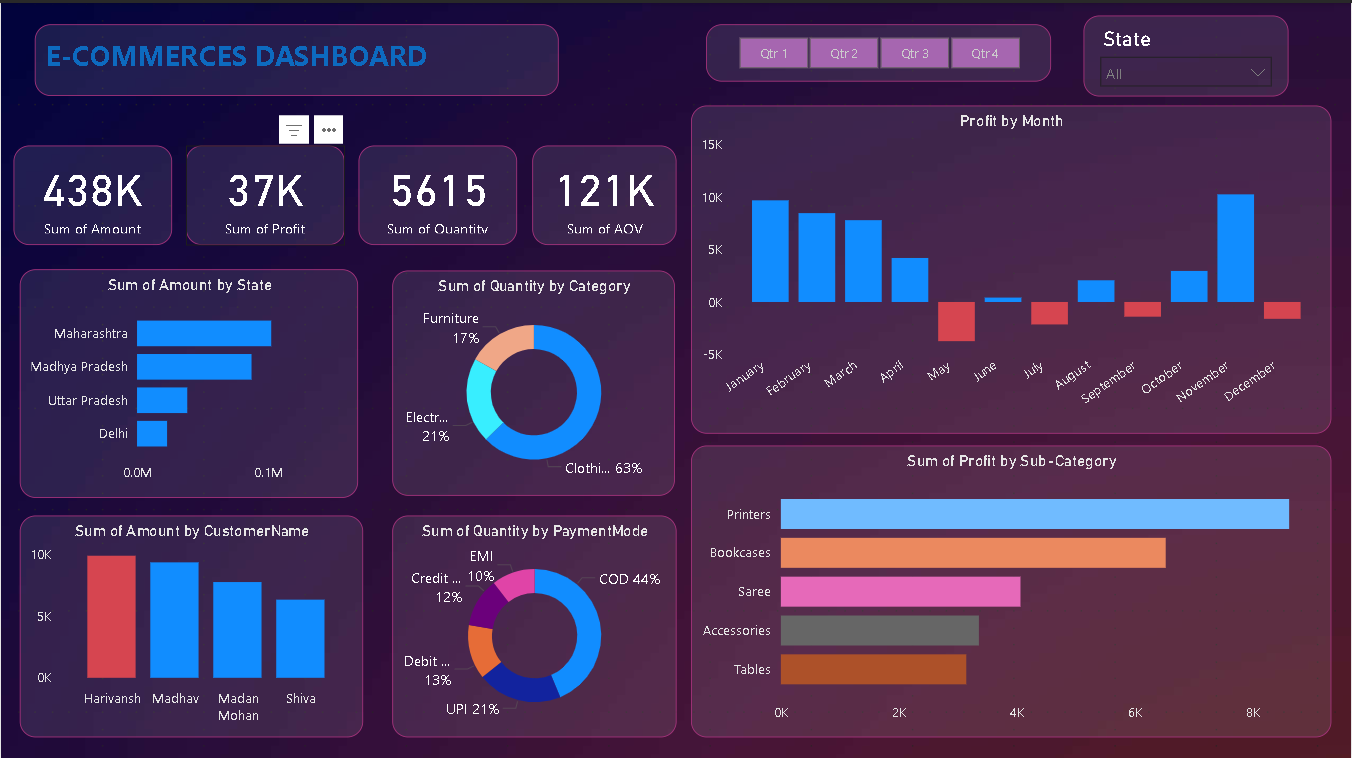

What the dashboard file says about the page in this screenshot:
{"tool":"powerbi","page":{"name":"Page 1","canvas":[1280,720],"ordinal":0},"visuals":[{"type":"textbox","box":[32.4,20.6,496.5,67.8],"z":0},{"type":"columnChart","title":"Profit by Month","fields":{"Y":["Sum(Details.Profit)"],"Category":["Orders.Order Date.Variation.Date Hierarchy.Month"]},"box":[654.1,97.2,607,310.9],"z":1000},{"type":"barChart","fields":{"Category":["Details.Sub-Category"],"Y":["Sum(Details.Profit)"]},"box":[654.1,419.9,607,277],"z":2000},{"type":"pieChart","fields":{"Category":["Details.Category"],"Y":["Sum(Details.Quantity)"]},"box":[371.3,253.4,268.1,213.6],"z":3000},{"type":"donutChart","fields":{"Y":["Sum(Details.Quantity)"],"Category":["Details.PaymentMode"]},"box":[371.3,486.2,269.6,210.7],"z":4000},{"type":"card","fields":{"Values":["Sum(Details.Amount)"]},"box":[11.8,135.5,150.3,94.3],"z":5000},{"type":"card","fields":{"Values":["Sum(Details.Profit)"]},"box":[175.3,135.5,150.3,94.3],"z":6000},{"type":"card","fields":{"Values":["Sum(Details.Quantity)"]},"box":[338.9,135.5,150.3,94.3],"z":7000},{"type":"card","fields":{"Values":["Sum(Details.AOV)"]},"box":[503.9,135.5,137,94.3],"z":8000},{"type":"barChart","fields":{"Category":["Orders.State"],"Y":["Sum(Details.Amount)"]},"box":[17.7,251.9,321.2,216.6],"z":9000},{"type":"columnChart","fields":{"Category":["Orders.CustomerName"],"Y":["Sum(Details.Amount)"]},"box":[17.7,486.2,325.6,210.7],"z":10000},{"type":"slicer","fields":{"Values":["Orders.Order Date.Variation.Date Hierarchy.Quarter"]},"box":[668.9,20.6,327.1,54.5],"z":11000},{"type":"slicer","fields":{"Values":["Orders.State"]},"box":[1026.9,11.8,194.5,76.6],"z":12000}]}

Visuals, with their boxes in screenshot pixels (x1, y1, x2, y2), scaled from the page's 1280x720 canvas onto the 1352x758 screenshot:
textbox: bbox=(34, 22, 559, 93)
"Profit by Month" columnChart: bbox=(691, 102, 1332, 430)
barChart - Details.Sub-Category x Sum(Details.Profit): bbox=(691, 442, 1332, 734)
pieChart - Details.Category x Sum(Details.Quantity): bbox=(392, 267, 675, 492)
donutChart - Sum(Details.Quantity) x Details.PaymentMode: bbox=(392, 512, 677, 734)
card - Sum(Details.Amount): bbox=(12, 143, 171, 242)
card - Sum(Details.Profit): bbox=(185, 143, 344, 242)
card - Sum(Details.Quantity): bbox=(358, 143, 517, 242)
card - Sum(Details.AOV): bbox=(532, 143, 677, 242)
barChart - Orders.State x Sum(Details.Amount): bbox=(19, 265, 358, 493)
columnChart - Orders.CustomerName x Sum(Details.Amount): bbox=(19, 512, 363, 734)
slicer - Orders.Order Date.Variation.Date Hierarchy.Quarter: bbox=(707, 22, 1052, 79)
slicer - Orders.State: bbox=(1085, 12, 1290, 93)
